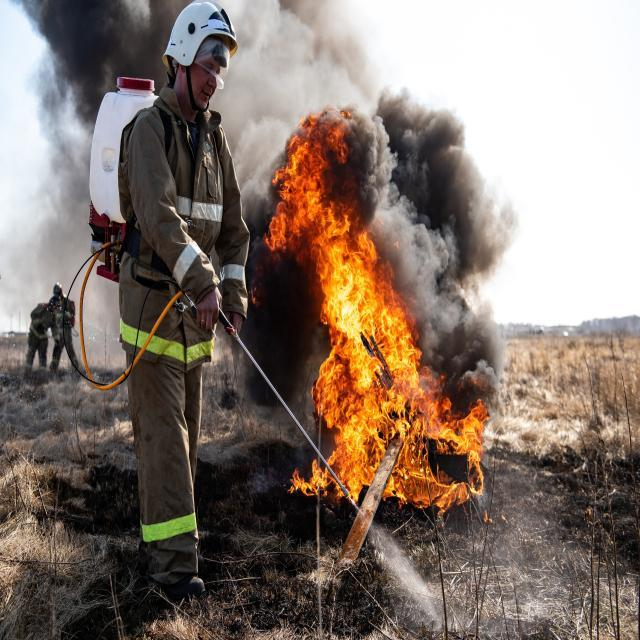Fire: (268, 116, 488, 509)
Smoke: (218, 0, 512, 415), (15, 0, 174, 290)
